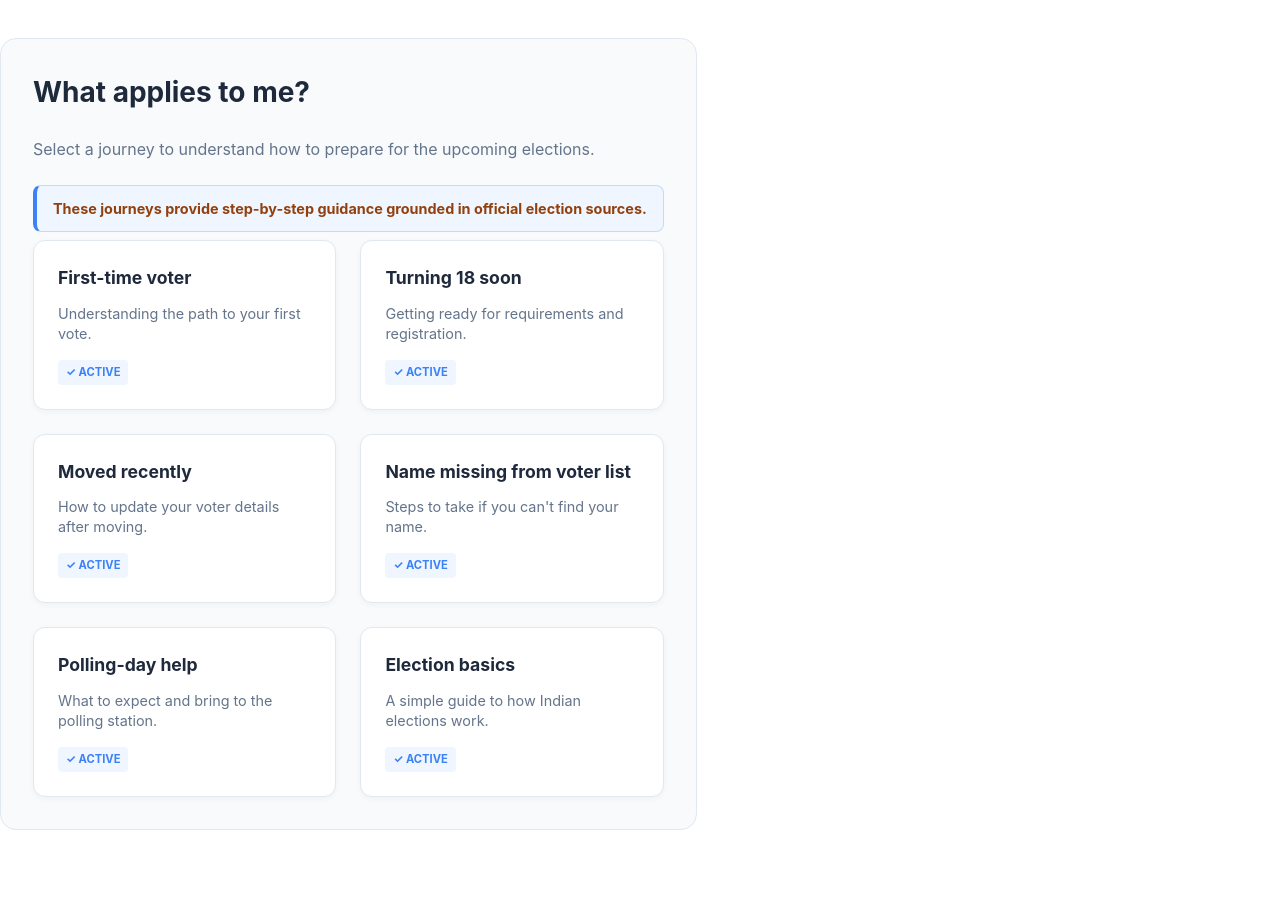
Test: GuidedJourneyChooser › shows dedicated detail shell when 'Turning 18 soon' is selected
The image size is (1280, 900).
Click the button "Turning 18 soon" at (512, 325), box [385,265,639,385]
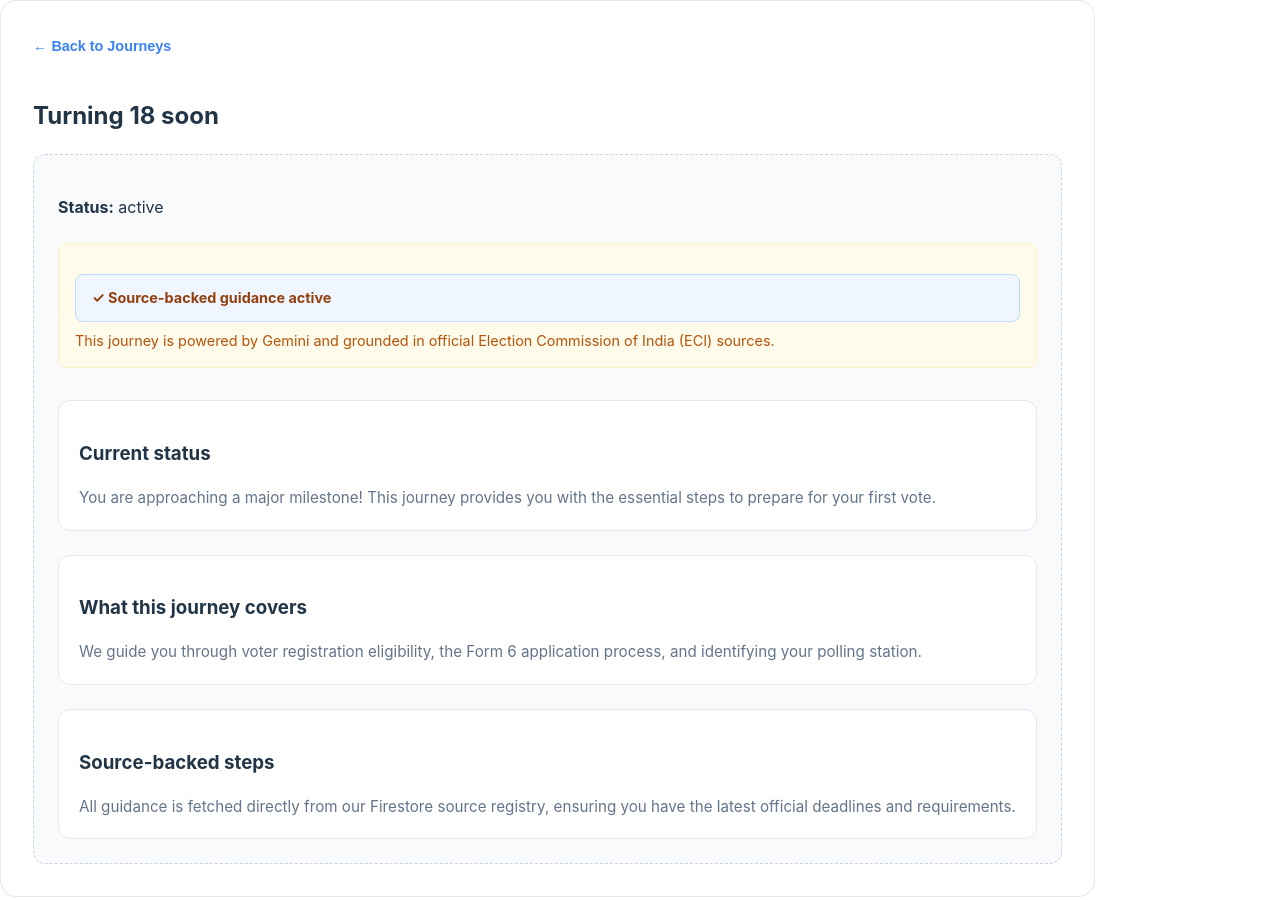
Now the text "✓ Source-backed guidance active" is shown, box [75,274,1020,322]
Now the heading "Current status" is shown, box [79,442,211,465]
Now the heading "What this journey covers" is shown, box [79,596,307,620]
